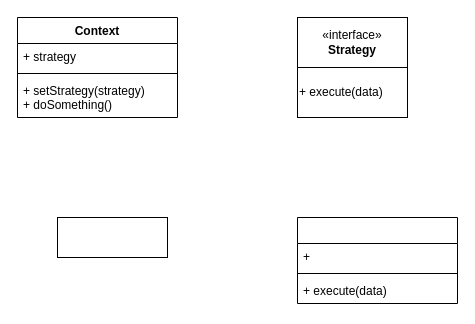
The diagram is 475 pixels wide and 324 high, and some of its shapes have lost their labels. The shapes that lost their labels are listed below. From the top down, each one's box as (x1, y1, x2, y2) in pixels, then its label:
(56, 216, 168, 258): Client
(296, 216, 458, 304): ConcreateStrategies
